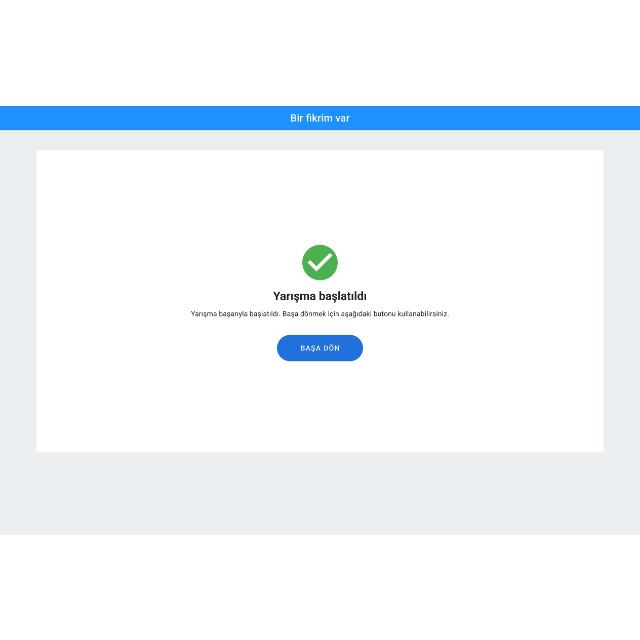QLabel: (189, 308, 451, 318), (270, 290, 368, 302), (286, 110, 352, 124), (297, 343, 341, 352)
VAppBar: (0, 105, 640, 128)
VBtn: (278, 333, 362, 361)
VCard: (36, 148, 604, 454)
VIcon: (304, 243, 338, 279)
